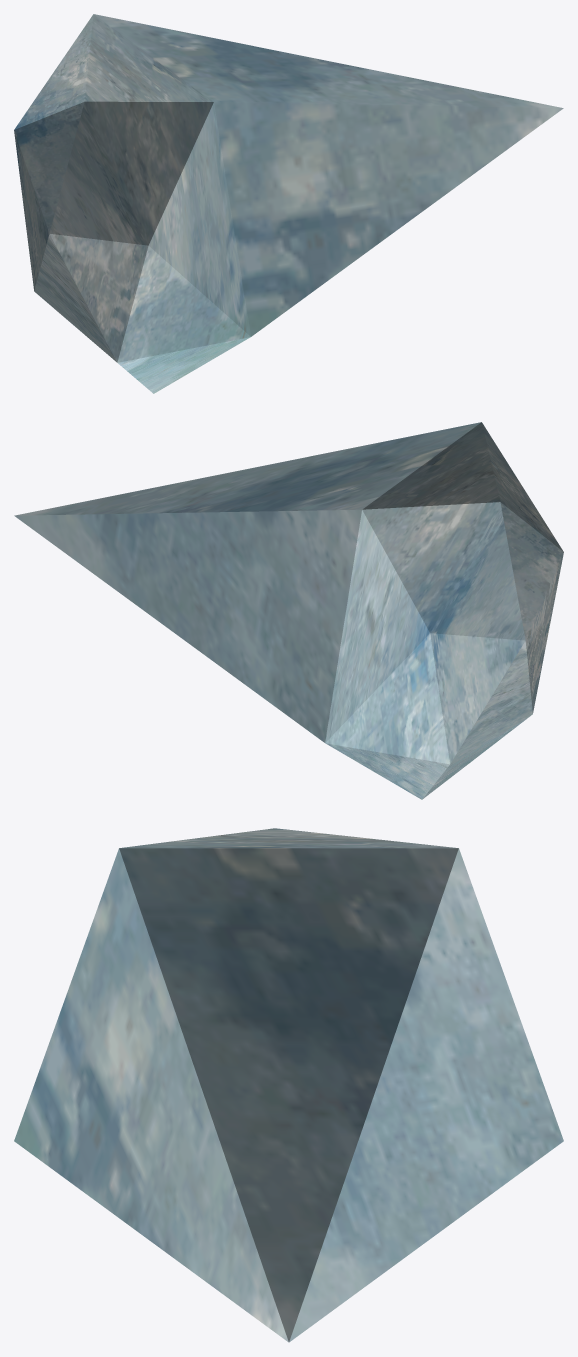
File: diamond.glb
3 renders of one model, top to bottom at view 1: azimuth 30°, elevation 25°; view 2: azimuth 150°, elevation 25°; view 3: azimuth 270°, elevation 25°, orthographic. The views are drawn at different scales.
Visible parts, largest first — view 1: weapons/diamond_0; view 2: weapons/diamond_0; view 3: weapons/diamond_0.
Part boxes in pixels (box(x1,y1,x2,y2)): weapons/diamond_0: box(14, 14, 563, 393); weapons/diamond_0: box(14, 422, 563, 799); weapons/diamond_0: box(14, 828, 563, 1342).
Size of the model in its own units: 2 by 1.25 by 1.31.
1 material, 1 textured.
